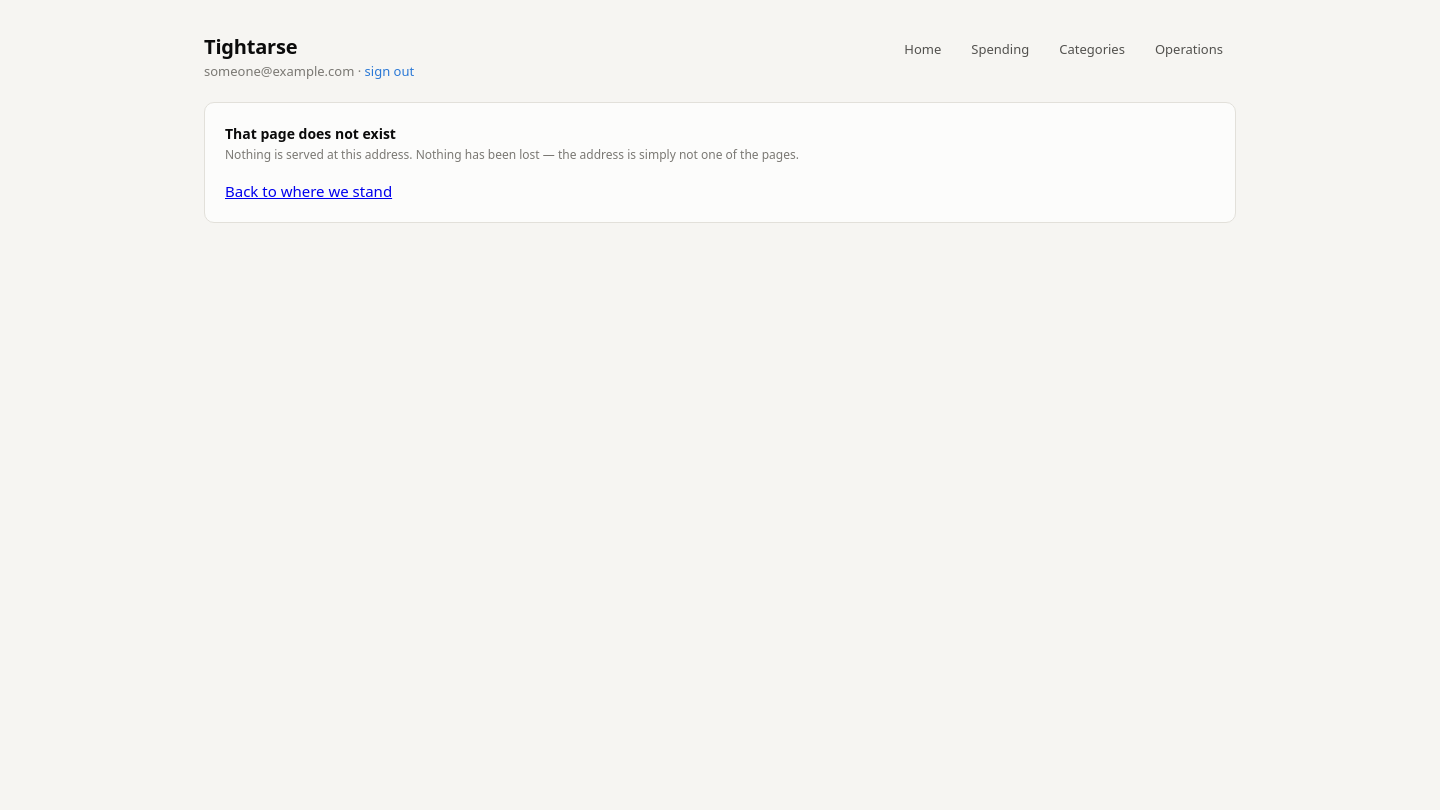
Test: an address that is not a page › offers the way back
Click the link "Back to where we stand".
click(309, 190)  # box [225, 180, 392, 200]
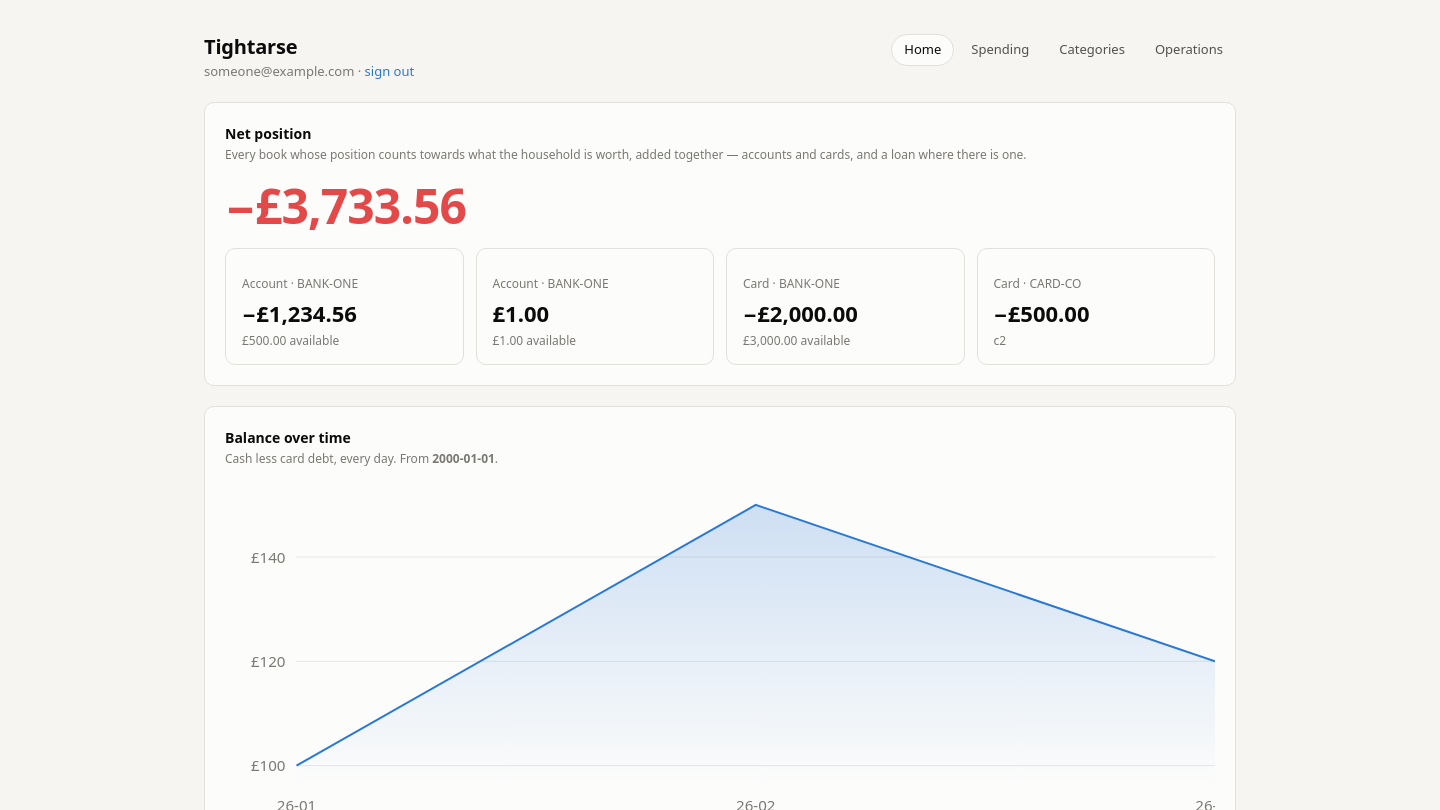
Check: the heading "Net position" is shown, box [225, 124, 311, 142]
